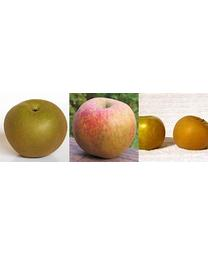apple: (72, 96, 136, 158), (3, 99, 67, 158), (172, 117, 207, 149), (138, 117, 164, 150)
